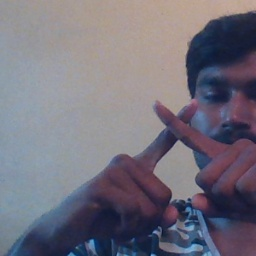X: (117, 88, 236, 198)
